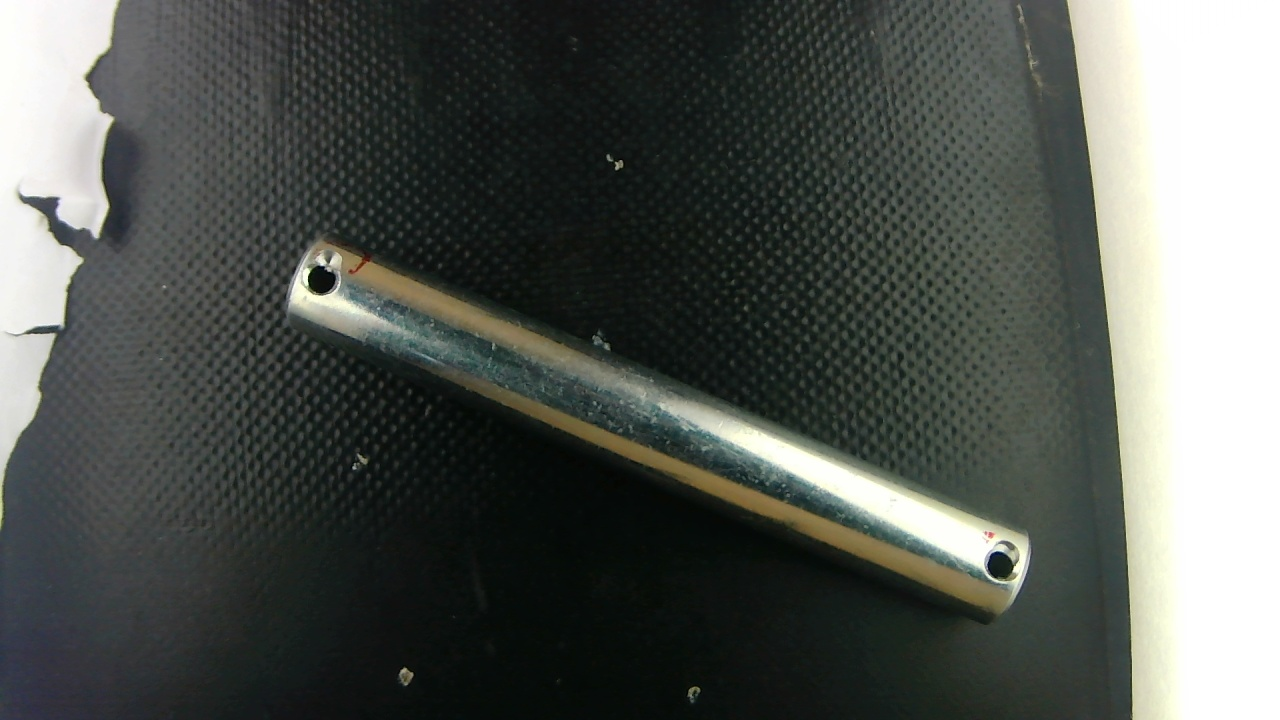drill touch_pin: (990, 534, 1034, 577)
